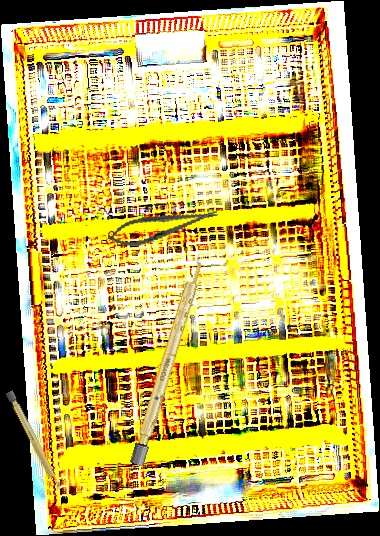Needle Holder: (105, 200, 221, 253)
Scalpel Handle: (129, 255, 207, 467), (5, 390, 63, 492)
